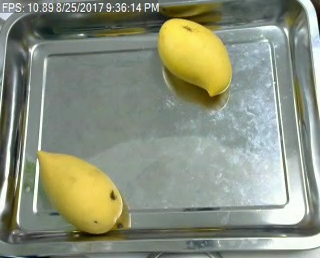Mango: (33, 148, 126, 240), (153, 15, 243, 101)
